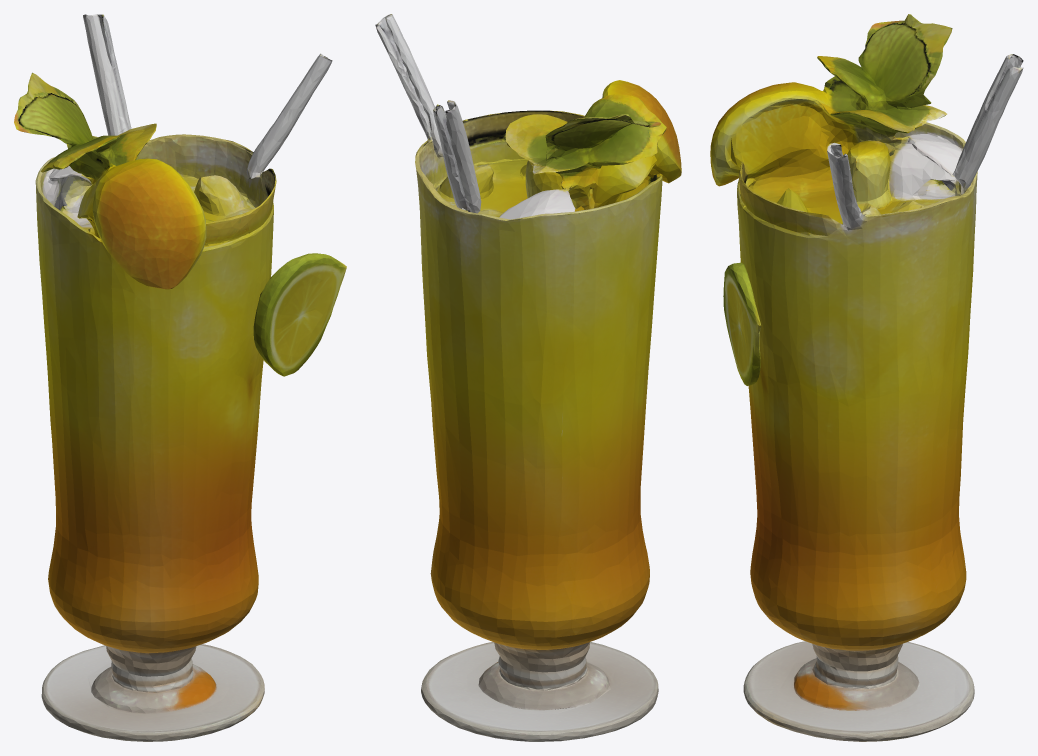
Rendered from Tropical Sunrise.glb.
3 views of the same model, side by side, from view 1: azimuth 30°, elevation 25°; view 2: azimuth 150°, elevation 25°; view 3: azimuth 270°, elevation 25° (orthographic). The views are drawn at different scales.
Parts seen in each view (by area): view 1: world; view 2: world; view 3: world.
Part boxes in pixels (bbox=[...]): world: bbox=[14, 14, 346, 741]; world: bbox=[375, 14, 681, 741]; world: bbox=[710, 14, 1023, 741].
Bounding box in the file's own units: 0.4915 × 1 × 0.44.
Materials: 1 (1 with a texture image).
